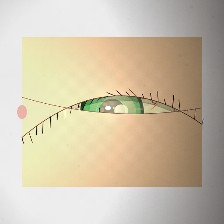corneal_ulcer: (88, 87, 147, 134)
